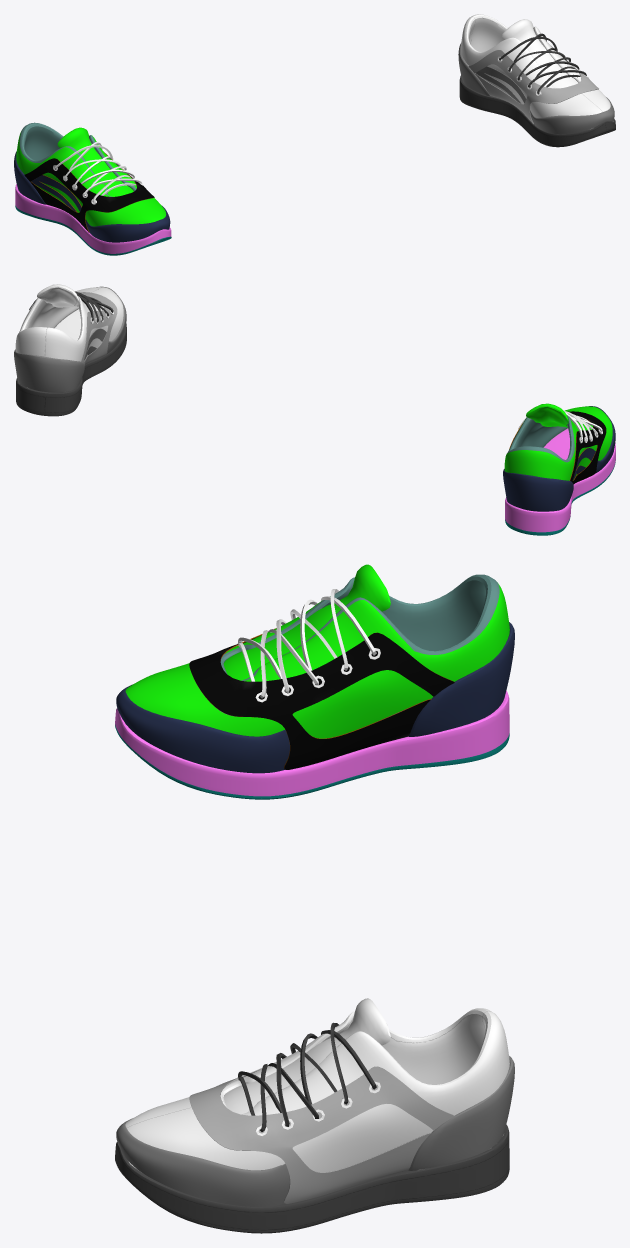
File: shoe.fbx
3 renders of one model, top to bottom at view 1: azimuth 30°, elevation 25°; view 2: azimuth 150°, elevation 25°; view 3: azimuth 270°, elevation 25°, orthographic. The views are drawn at different scales.
Parts seen in each view (by area): view 1: Shoe.001, Shoe; view 2: Shoe, Shoe.001; view 3: Shoe.001, Shoe.
Part boxes in pixels (box(x1,y1,x2,y2)): Shoe.001: box(458, 14, 615, 147); Shoe: box(14, 122, 171, 255); Shoe: box(503, 403, 615, 535); Shoe.001: box(14, 284, 126, 416); Shoe.001: box(115, 998, 514, 1233); Shoe: box(115, 564, 514, 799).
Bounding box in the file's own units: 1192 × 203 × 390.
Materials: 5 (1 with a texture image).
